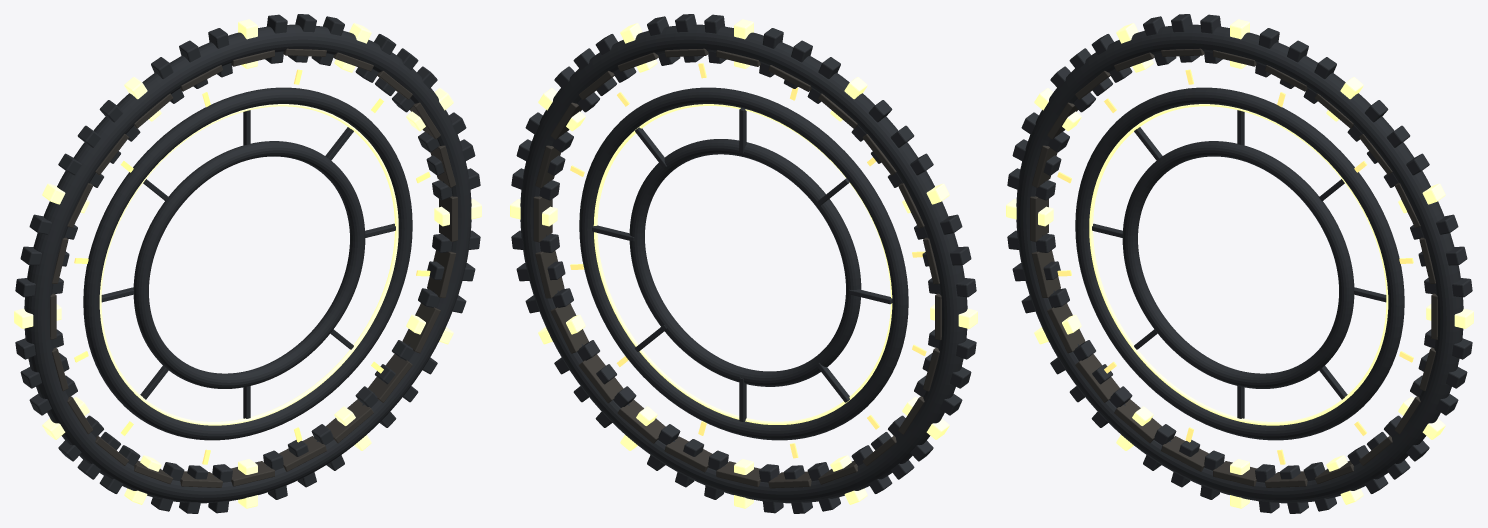
Rendered from portal_gate.glb.
The picture shows the model from 3 angles, left to right: view 1: azimuth 30°, elevation 25°; view 2: azimuth 150°, elevation 25°; view 3: azimuth 330°, elevation 25°; orthographic projection.
Visible parts, largest first — view 1: portal_gate, rim_structure, ring_inner, rim_emissive, panel_43, panel_45, panel_41, panel_47, panel_39, panel_01, panel_37; view 2: portal_gate, rim_structure, ring_inner, rim_emissive, panel_43, panel_45, panel_41, panel_47, panel_39, panel_01, panel_37, panel_03; view 3: portal_gate, rim_structure, ring_inner, rim_emissive, panel_31, panel_29, panel_33, panel_27, panel_35, panel_25, panel_37.
Part boxes in pixels (x1,y1,x2,y2): portal_gate: (24,24,471,503); rim_structure: (83,87,412,440); ring_inner: (133,141,365,388); rim_emissive: (99,104,398,425); panel_43: (368,354,412,402); panel_45: (402,303,440,353); panel_41: (326,399,373,443); panel_47: (427,250,456,297); panel_39: (279,436,326,471); panel_01: (439,196,457,241); panel_37: (231,461,274,486); portal_gate: (520,24,967,503); rim_structure: (579,87,908,440); ring_inner: (629,139,861,386); rim_emissive: (593,104,892,424); panel_43: (579,354,623,403); panel_45: (550,303,588,353); panel_41: (617,399,665,443); panel_47: (535,250,564,298); panel_39: (664,436,712,472); panel_01: (533,196,552,242); panel_37: (716,461,760,486); panel_03: (535,145,560,188); portal_gate: (1016,24,1463,503); rim_structure: (1075,87,1404,440); ring_inner: (1122,141,1354,388); rim_emissive: (1089,104,1388,425); panel_31: (1075,354,1119,402); panel_29: (1047,303,1085,353); panel_33: (1114,399,1161,443); panel_27: (1031,250,1060,297); panel_35: (1161,436,1208,471); panel_25: (1030,196,1048,241); panel_37: (1213,461,1256,486).
Bounding box in the file's own units: 21.9 × 21.9 × 1.13.
